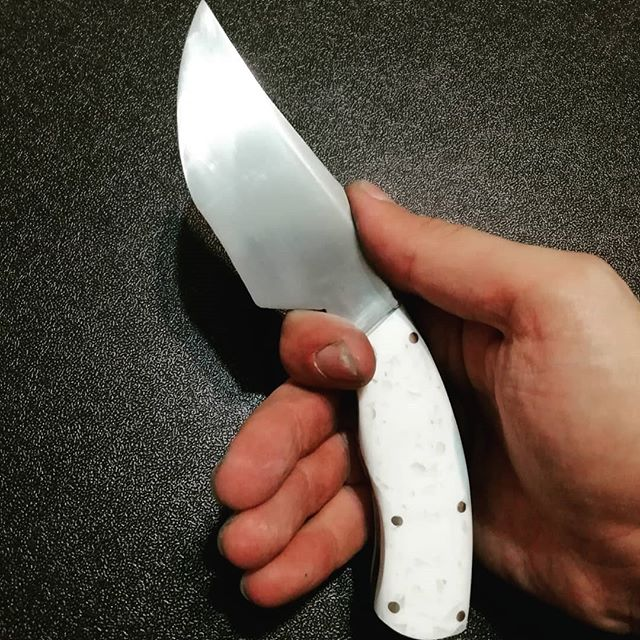knife: (177, 1, 473, 640)
